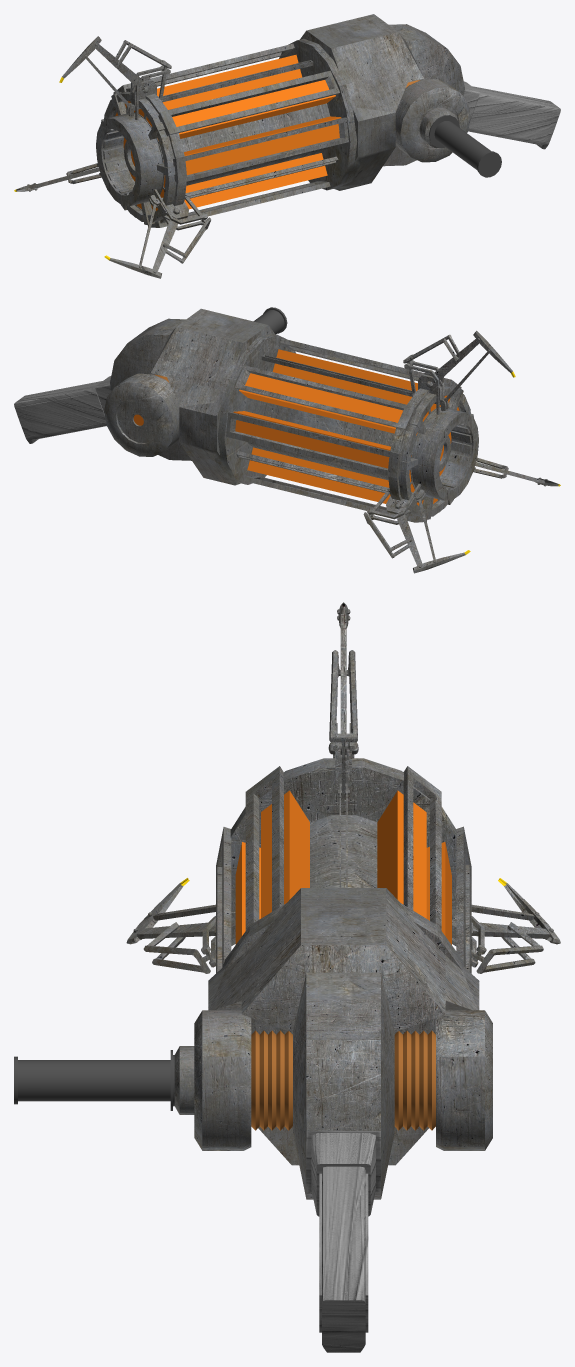
File: Project Name.obj
3 views of the same model, one above another, from view 1: azimuth 30°, elevation 25°; view 2: azimuth 150°, elevation 25°; view 3: azimuth 270°, elevation 25° (orthographic). The views are drawn at different scales.
Visible parts, largest first — view 1: 009_Extrusion, 004_Body, 005_Xen_Crystal, 006_Supports, 000_Handle_1, 003_Buffer_Layer, 001_Handle_2; view 2: 009_Extrusion, 004_Body, 005_Xen_Crystal, 006_Supports, 003_Buffer_Layer, 000_Handle_1, 001_Handle_2, 007_Front_Emitter; view 3: 004_Body, 009_Extrusion, 003_Buffer_Layer, 000_Handle_1, 006_Supports, 005_Xen_Crystal, 002_Coils, 001_Handle_2.
Boxes of the visible parts, x1,y1,x2,y2 form: 009_Extrusion: (16, 36, 357, 278); 004_Body: (300, 14, 464, 190); 005_Xen_Crystal: (157, 54, 341, 209); 006_Supports: (113, 43, 348, 227); 000_Handle_1: (463, 81, 560, 149); 003_Buffer_Layer: (395, 79, 470, 162); 001_Handle_2: (429, 115, 501, 177); 009_Extrusion: (217, 330, 558, 573); 004_Body: (110, 308, 274, 485); 005_Xen_Crystal: (233, 349, 417, 503); 006_Supports: (226, 338, 461, 522); 003_Buffer_Layer: (104, 373, 179, 456); 000_Handle_1: (14, 376, 111, 443); 001_Handle_2: (253, 307, 287, 334); 007_Front_Emitter: (133, 395, 459, 505); 004_Body: (208, 888, 479, 1199); 009_Extrusion: (126, 602, 560, 973); 003_Buffer_Layer: (174, 1010, 492, 1150); 000_Handle_1: (306, 1131, 380, 1352); 006_Supports: (216, 766, 471, 973); 005_Xen_Crystal: (235, 790, 451, 944); 002_Coils: (251, 1030, 435, 1130); 001_Handle_2: (14, 1050, 174, 1110).
Bounding box in the file's own units: 1082 × 454 × 597.
Materials: 7 (2 with a texture image).
